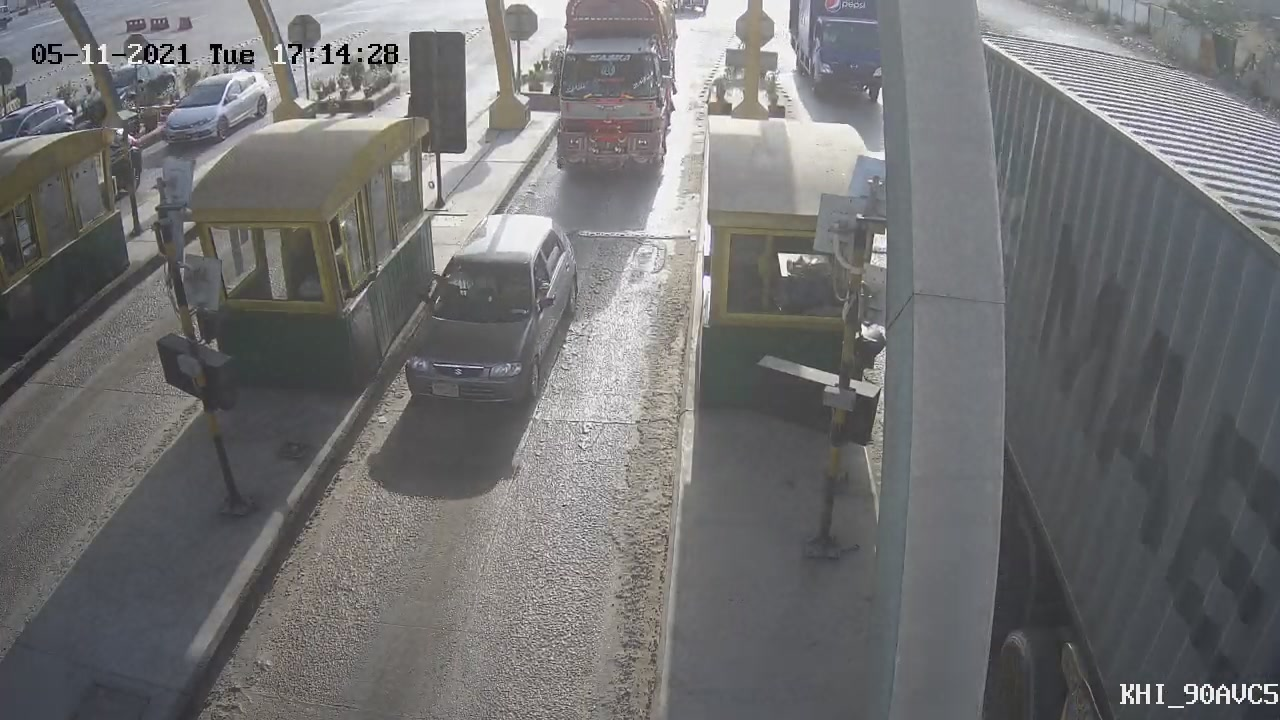F1: (376, 196, 603, 424)
